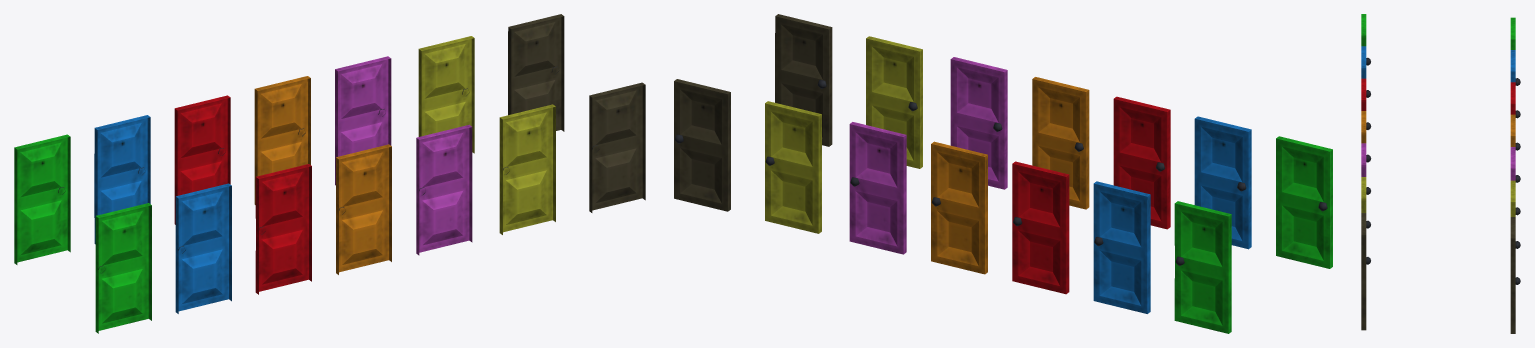
File: PuertasColores.fbx
3 renders of one model, left to right at view 1: azimuth 30°, elevation 25°; view 2: azimuth 150°, elevation 25°; view 3: azimuth 270°, elevation 25°, orthographic. The views are drawn at different scales.
Parts seen in each view (by area): view 1: PuetaCasa6, PuetaCasa4, PuetaCasa5, PuetaCasa9, PuetaCasa10, PuetaCasa17, PuetaCasa8, PuetaCasa7, PuetaCasa11, PuetaCasa12, PuetaCasa14, PuetaCasa15 (+2 smaller); view 2: PuetaCasa15, PuetaCasa13, PuetaCasa16, PuetaCasa17, PuetaCasa10, PuetaCasa11, PuetaCasa12, PuetaCasa14, PuetaCasa9, PuetaCasa8, PuetaCasa7, PuetaCasa6 (+2 smaller); view 3: PuetaCasa11, PuetaCasa4, PuetaCasa12, PuetaCasa5, PuetaCasa13, PuetaCasa6, PuetaCasa14, PuetaCasa15, PuetaCasa17, PuetaCasa16, PuetaCasa7, PuetaCasa8 (+2 smaller).
Part boxes in pixels (x1,y1,x2,y2): PuetaCasa6: (416,124,472,255); PuetaCasa4: (589,82,645,212); PuetaCasa5: (499,104,555,234); PuetaCasa9: (175,183,231,313); PuetaCasa10: (95,203,151,333); PuetaCasa17: (14,134,70,264); PuetaCasa8: (255,164,311,294); PuetaCasa7: (336,144,391,274); PuetaCasa11: (508,14,564,131); PuetaCasa12: (418,36,474,153); PuetaCasa14: (254,76,310,204); PuetaCasa15: (174,95,230,224); PuetaCasa15: (1012,161,1069,294); PuetaCasa13: (849,122,906,254); PuetaCasa16: (1093,181,1150,313); PuetaCasa17: (1174,201,1231,333); PuetaCasa10: (1276,136,1332,268); PuetaCasa11: (674,79,730,211); PuetaCasa12: (765,101,821,233); PuetaCasa14: (931,141,987,274); PuetaCasa9: (1194,116,1251,249); PuetaCasa8: (1113,96,1170,229); PuetaCasa7: (1032,77,1089,209); PuetaCasa6: (950,57,1007,189); PuetaCasa11: (1510,217,1520,333); PuetaCasa4: (1361,213,1370,330); PuetaCasa12: (1510,180,1520,248); PuetaCasa5: (1361,177,1370,228); PuetaCasa13: (1510,147,1520,215); PuetaCasa6: (1361,143,1370,194); PuetaCasa14: (1510,114,1520,182); PuetaCasa15: (1510,82,1520,150); PuetaCasa17: (1510,17,1520,85); PuetaCasa16: (1510,50,1520,118); PuetaCasa7: (1361,111,1371,162); PuetaCasa8: (1361,78,1371,129).
Size of the model in its own units: 166 by 33.04 by 49.93.
Materials: 1 (1 with a texture image).
